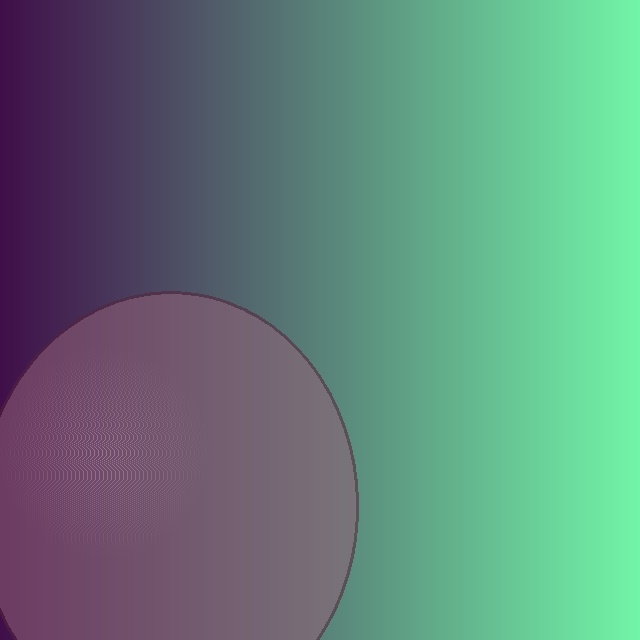lens: (0, 292, 357, 640)
